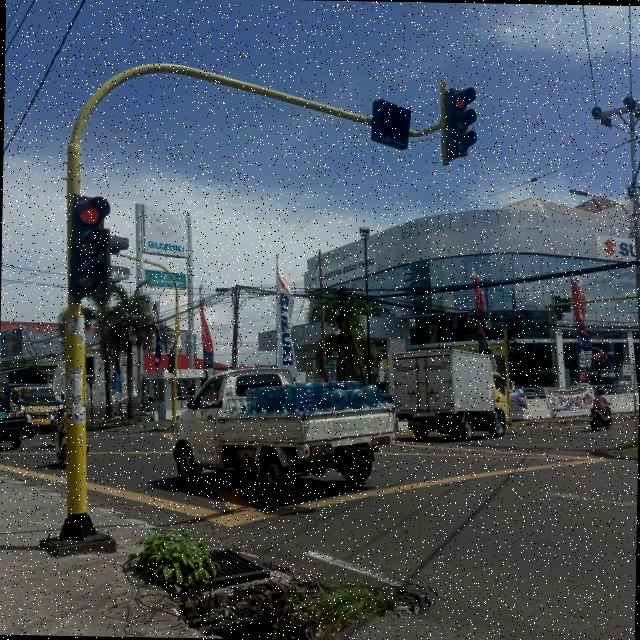Czerwone swiatlo: (70, 192, 108, 294), (446, 84, 477, 158)
